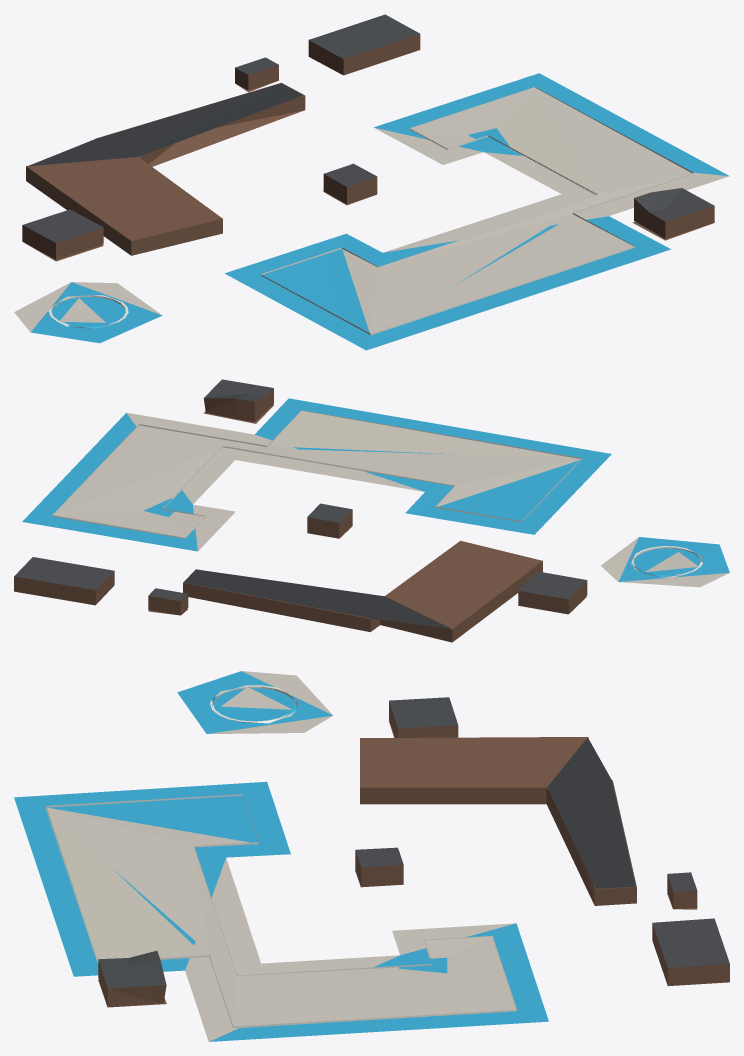
The model's file is flevoparkbad.lod2.glb.
The picture shows the model from 3 angles, top to bottom: view 1: azimuth 30°, elevation 25°; view 2: azimuth 150°, elevation 25°; view 3: azimuth 270°, elevation 25°; orthographic projection. The views are drawn at different scales.
Parts seen in each view (by area): view 1: lod2; view 2: lod2; view 3: lod2.
Boxes of the visible parts, x1,y1,x2,y2 form: lod2: [14, 14, 729, 350]; lod2: [14, 379, 729, 642]; lod2: [14, 671, 729, 1041].
Bounding box in the file's own units: 146 × 4.93 × 119.
